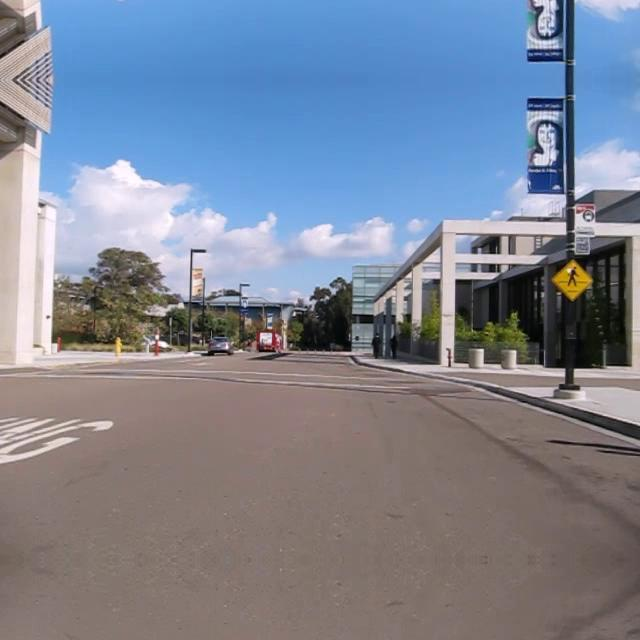pedestrianCrossing: (550, 258, 594, 300)
